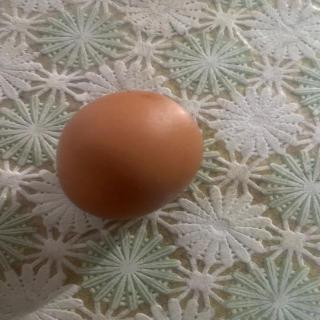Telur: (55, 90, 207, 221)
